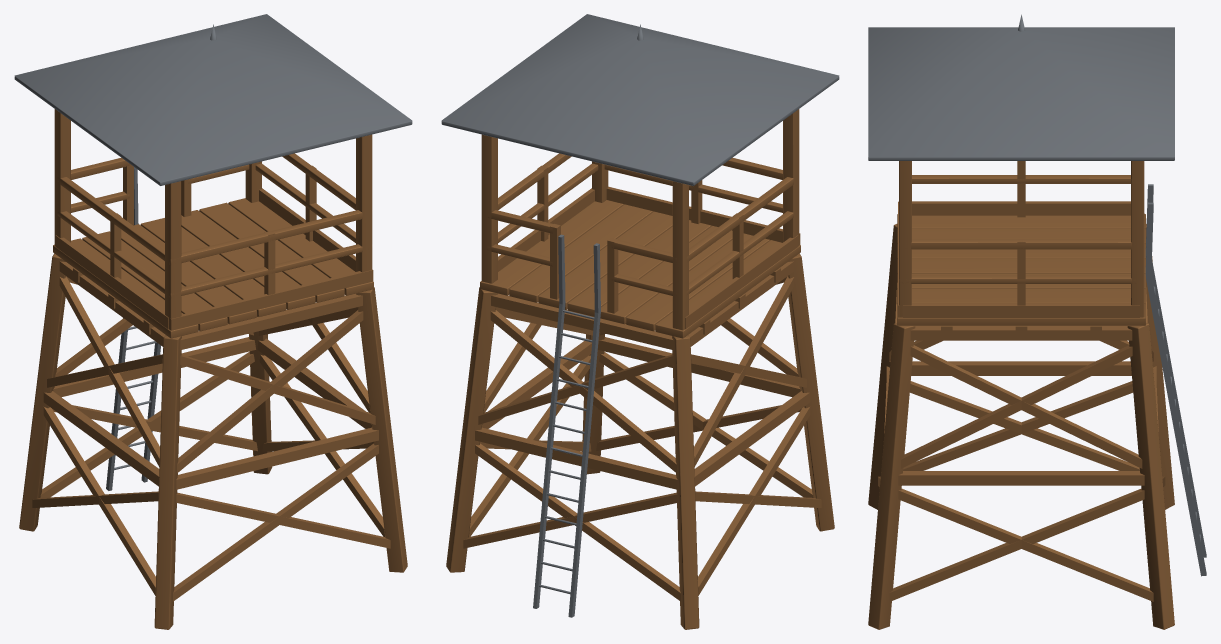
The model's file is watchtower.glb.
3 views of the same model, side by side, from view 1: azimuth 30°, elevation 25°; view 2: azimuth 150°, elevation 25°; view 3: azimuth 270°, elevation 25° (orthographic). The views are drawn at different scales.
Visible parts, largest first — view 1: Watchtower; view 2: Watchtower; view 3: Watchtower.
Part boxes in pixels (box(x1,y1,x2,y2)): Watchtower: box(14, 14, 412, 629); Watchtower: box(441, 14, 839, 629); Watchtower: box(868, 14, 1206, 629).
Size of the model in its own units: 3.7 by 7.35 by 4.08.
